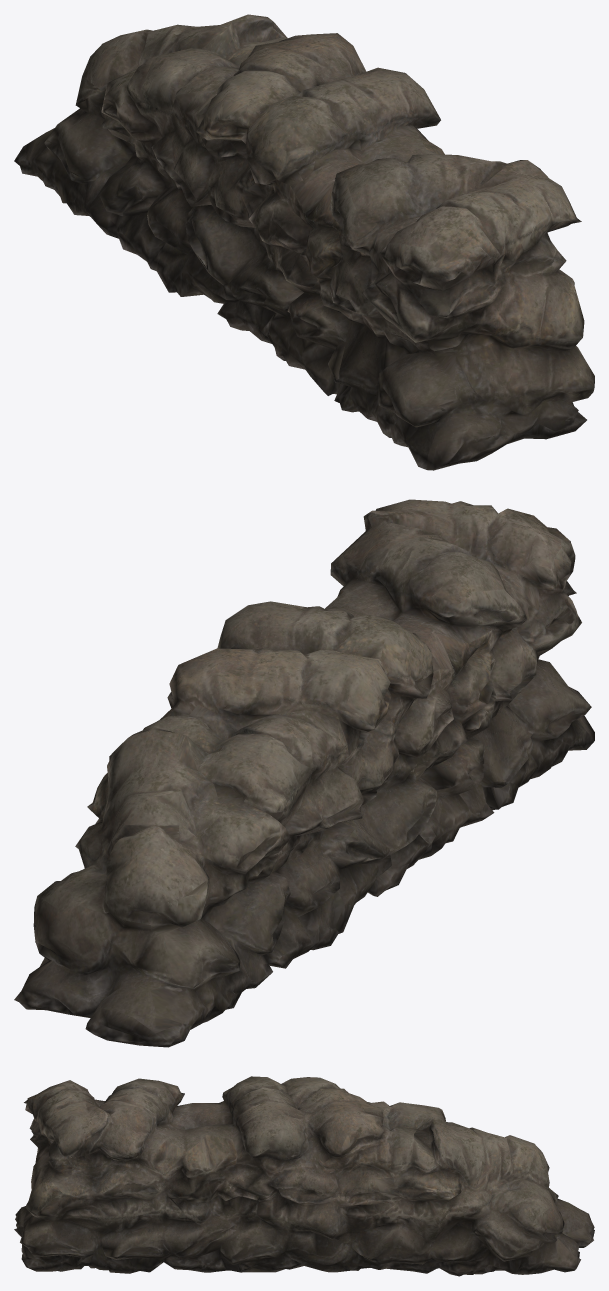
Rendered from SM_Sandbags02.glb.
3 views of the same model, one above another, from view 1: azimuth 30°, elevation 25°; view 2: azimuth 150°, elevation 25°; view 3: azimuth 270°, elevation 25° (orthographic). The views are drawn at different scales.
Parts seen in each view (by area): view 1: SM_Sandbags02; view 2: SM_Sandbags02; view 3: SM_Sandbags02.
Part boxes in pixels (x1=…): SM_Sandbags02: x1=14, y1=14, x2=594, y2=470; SM_Sandbags02: x1=14, y1=499, x2=594, y2=1047; SM_Sandbags02: x1=14, y1=1076, x2=594, y2=1276.
Bounding box in the file's own units: 1.07 × 1.27 × 4.03.
Materials: 1 (1 with a texture image).
